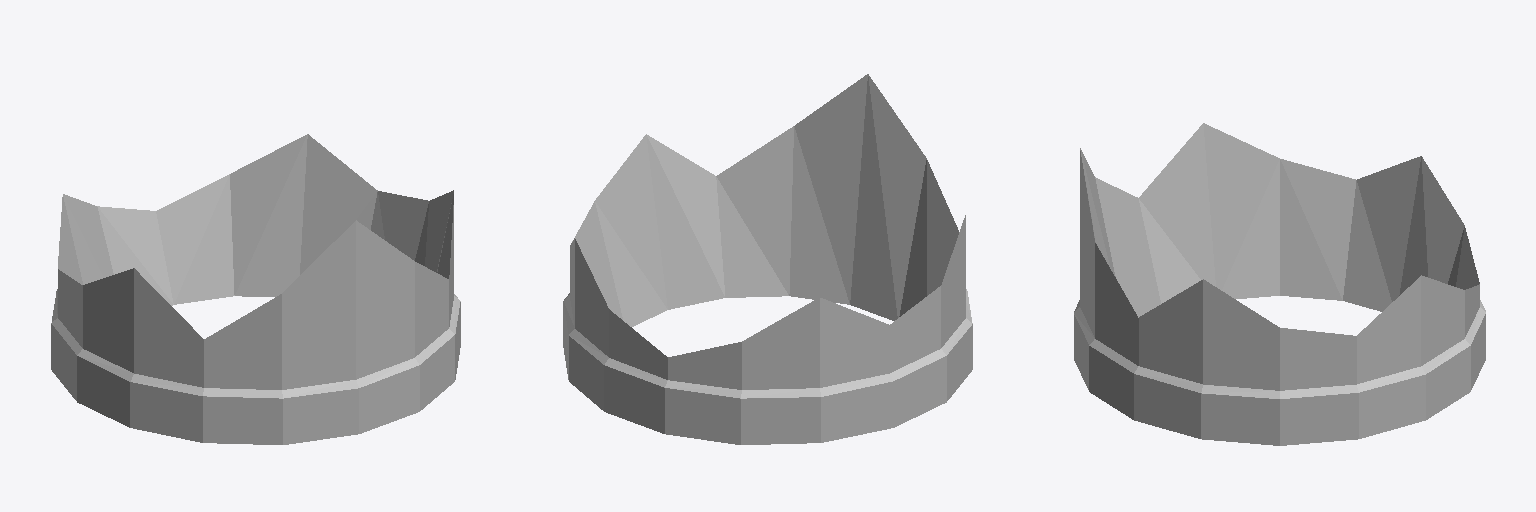
Rendered from Crown_LowPolyAlt.obj.
The picture shows the model from 3 angles: view 1: azimuth 30°, elevation 25°; view 2: azimuth 150°, elevation 25°; view 3: azimuth 270°, elevation 25°; orthographic projection.
Parts seen in each view (by area): view 1: Cylinder.027; view 2: Cylinder.027; view 3: Cylinder.027.
Boxes of the visible parts, x1=… form: Cylinder.027: x1=51, y1=134, x2=460, y2=444; Cylinder.027: x1=563, y1=74, x2=972, y2=444; Cylinder.027: x1=1074, y1=123, x2=1485, y2=445.
Bounding box in the file's own units: 0.3229 × 0.1884 × 0.3229.